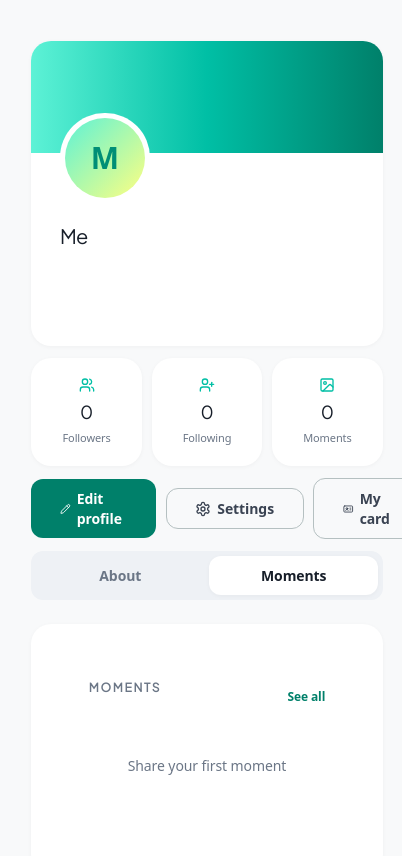
Test: the phone tab switcher › writes the chosen tab into the URL
About is the default now, so Moments is the one a click has to move to.
What coordinates should you click on to do the following:
click the tab with test id "profile-tab-moments"
I would click on:
 (294, 576)
Its box is [209,556,378,595].
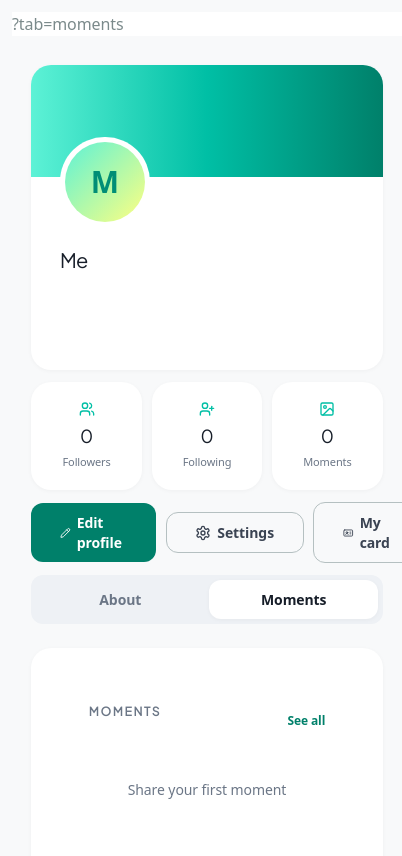
expect the text with test id "location-search" shows "tab=moments": met, box [12,13,124,35]
